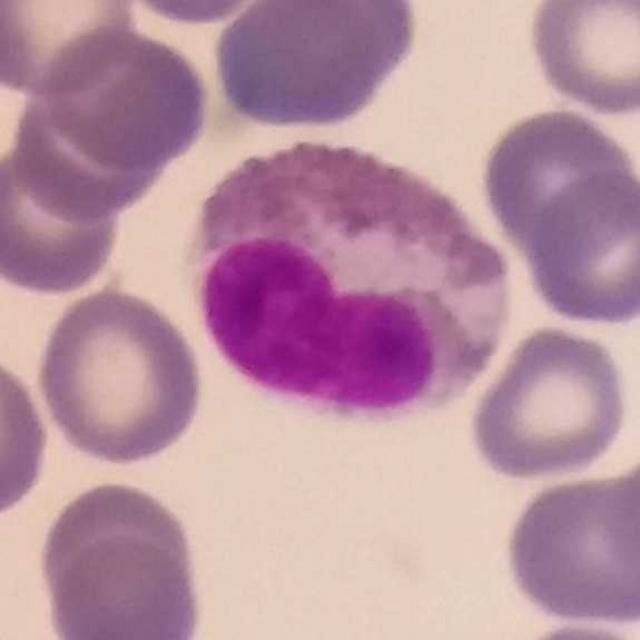Eosinophil: (174, 114, 538, 444)
RBC: (32, 282, 208, 470), (32, 23, 214, 174), (466, 322, 634, 484), (476, 104, 638, 260), (498, 459, 640, 631), (7, 85, 174, 222), (207, 1, 369, 129), (1, 142, 126, 298), (521, 167, 640, 329), (43, 487, 194, 612), (41, 530, 207, 640), (248, 0, 417, 93), (522, 0, 640, 119), (0, 0, 138, 99), (0, 344, 53, 525), (111, 0, 285, 28)
